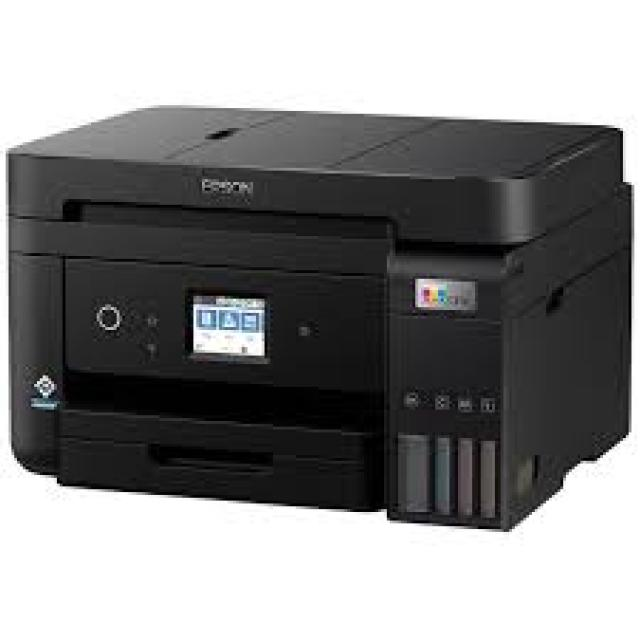printer: (3, 102, 631, 532)
